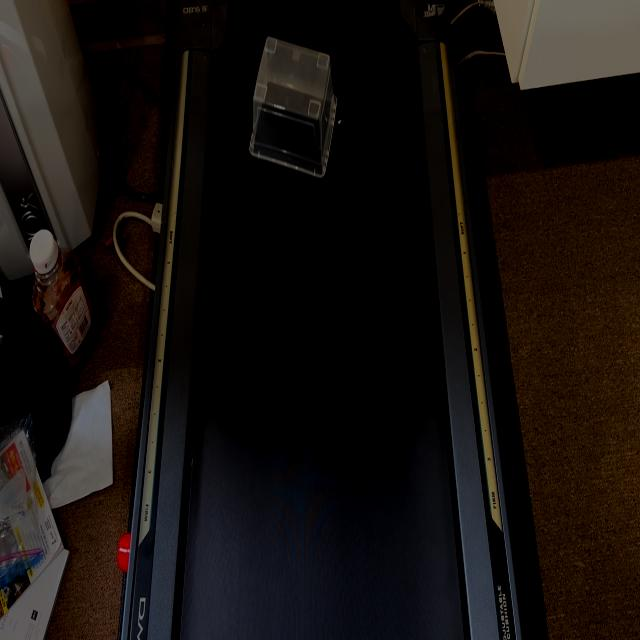Trash: (246, 38, 348, 176)
